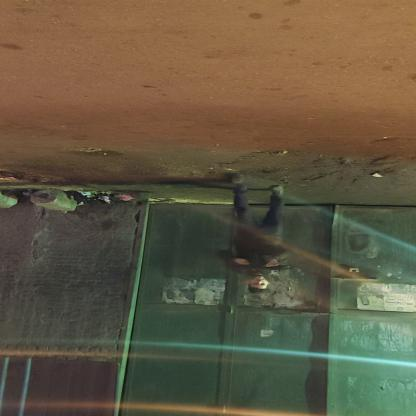long weapon: (216, 248, 306, 276)
